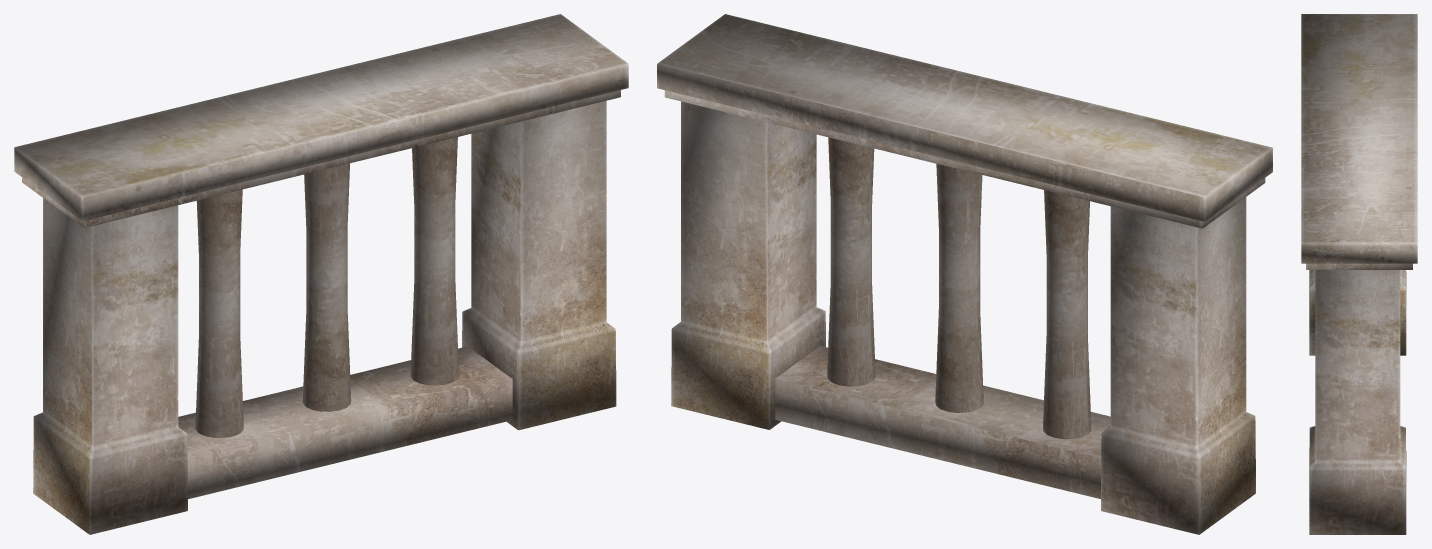
Rendered from balustrade1.fbx.
The picture shows the model from 3 angles, left to right: view 1: azimuth 30°, elevation 25°; view 2: azimuth 150°, elevation 25°; view 3: azimuth 270°, elevation 25°; orthographic projection. The views are drawn at different scales.
Visible parts, largest first — view 1: balustrade; view 2: balustrade; view 3: balustrade.
Boxes of the visible parts, x1,y1,x2,y2 form: balustrade: (14, 14, 628, 534); balustrade: (657, 14, 1272, 534); balustrade: (1301, 14, 1417, 534).
Bounding box in the file's own units: 9.72 × 5.85 × 2.09.
